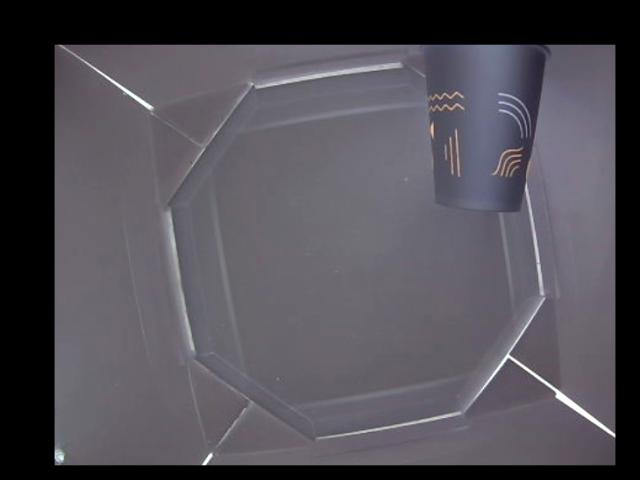Cup: (420, 45, 552, 214)
